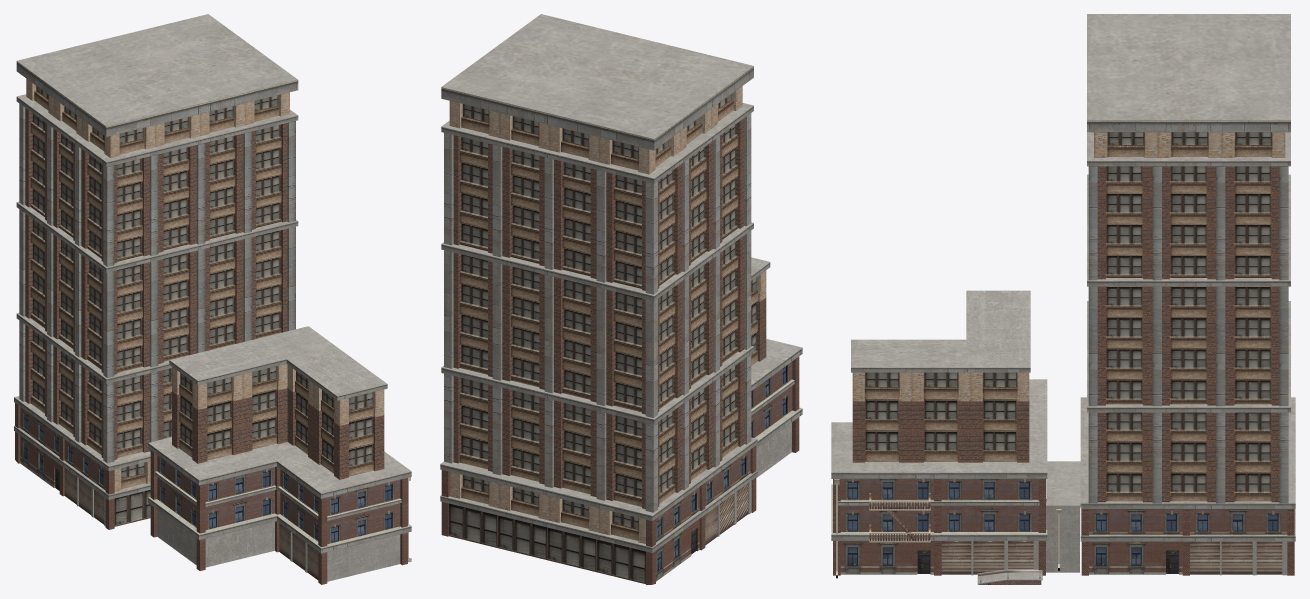
Rendered from edificio.fbx.
3 renders of one model, left to right at view 1: azimuth 30°, elevation 25°; view 2: azimuth 150°, elevation 25°; view 3: azimuth 270°, elevation 25°, orthographic. The views are drawn at different scales.
Parts seen in each view (by area): view 1: Atlas.016, Atlas.002, Cube.007, Cube.002, Atlas.014, Atlas.006, Cube.005, Cube.004, Atlas.017, Cube, Cube.003, Atlas.011 (+2 smaller); view 2: Atlas.016, Cube.007, Cube.002, Atlas.002, Atlas.011, Atlas.014, Atlas.015, Cube, Cube.005, Cube.004, Cube.003, Cube.001 (+6 smaller); view 3: Atlas.002, Atlas.016, Cube.007, Cube.002, Atlas.005, Atlas.018, Cube, Cube.005, Cube.004, Cube.003, Cube.001, Atlas.001 (+2 smaller).
Boxes of the visible parts, x1,y1,x2,y2 form: Atlas.016: [25, 108, 287, 459]; Atlas.002: [148, 326, 411, 584]; Cube.007: [16, 14, 298, 136]; Cube.002: [19, 103, 295, 463]; Atlas.014: [15, 403, 114, 529]; Atlas.006: [110, 92, 289, 157]; Cube.005: [16, 94, 298, 166]; Cube.004: [16, 201, 298, 272]; Atlas.017: [26, 78, 110, 157]; Cube: [14, 396, 150, 471]; Cube.003: [16, 313, 171, 383]; Atlas.011: [114, 490, 150, 526]; Atlas.016: [453, 118, 744, 508]; Cube.007: [441, 14, 753, 150]; Cube.002: [444, 113, 751, 512]; Atlas.002: [751, 257, 802, 477]; Atlas.011: [448, 503, 645, 584]; Atlas.014: [646, 445, 756, 584]; Atlas.015: [449, 101, 648, 174]; Cube: [440, 437, 757, 521]; Cube.005: [441, 103, 753, 183]; Cube.004: [441, 222, 753, 301]; Cube.003: [441, 346, 753, 424]; Cube.001: [440, 470, 757, 552]; Atlas.002: [831, 290, 1080, 578]; Atlas.016: [1097, 166, 1279, 502]; Cube.007: [1087, 14, 1290, 132]; Cube.002: [1088, 166, 1288, 503]; Atlas.005: [1081, 509, 1294, 575]; Atlas.018: [1094, 132, 1285, 157]; Cube: [1080, 397, 1295, 508]; Cube.005: [1087, 132, 1290, 166]; Cube.004: [1087, 174, 1290, 286]; Cube.003: [1087, 301, 1290, 412]; Cube.001: [1080, 509, 1295, 541]; Atlas.001: [977, 569, 1042, 584].
Size of the model in its own units: 173 by 322 by 296.
